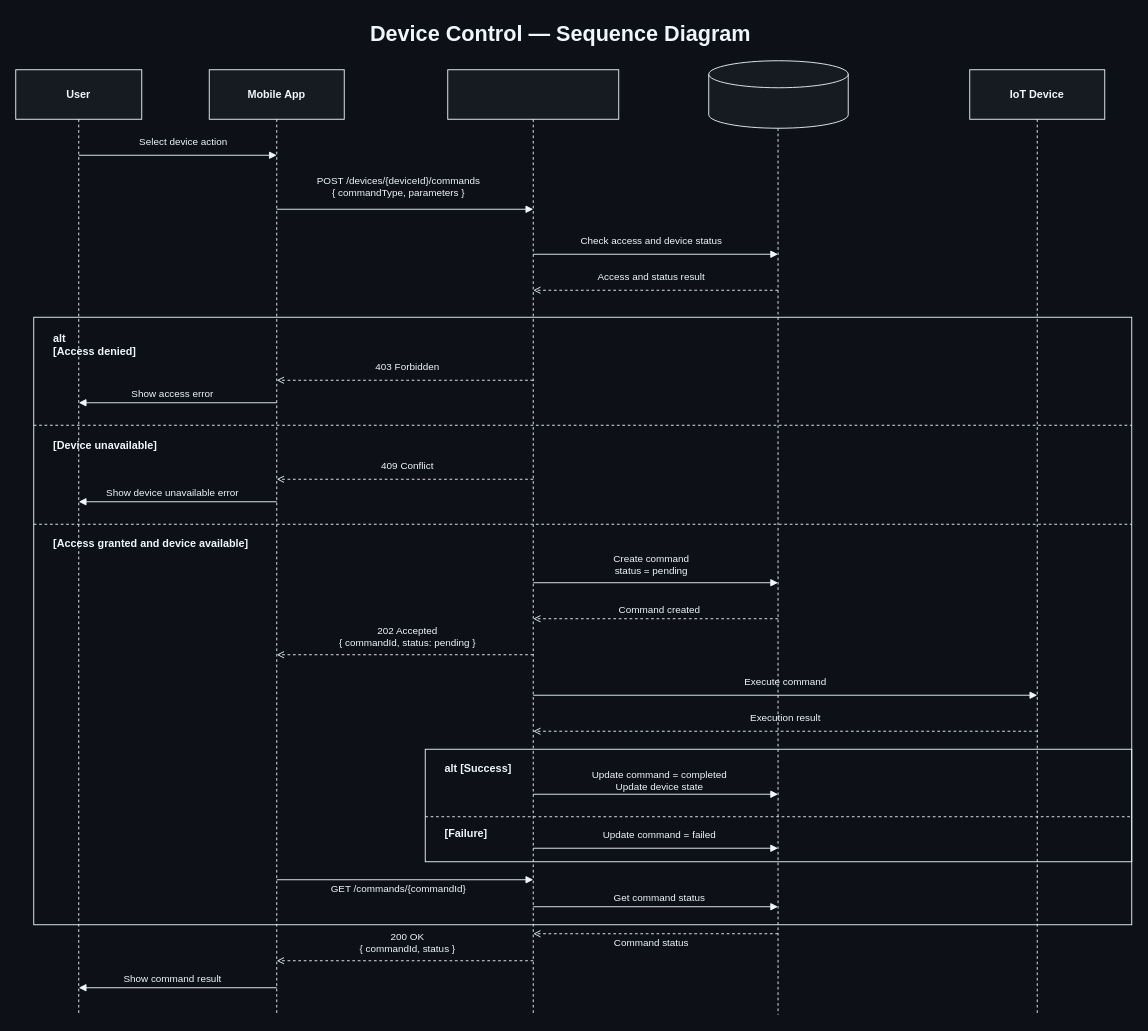
Some shapes in this 1148 by 1031 pixel diagram are drawn without their labels. The shapes that lost their labels are listed below. From the top down, each one's box as (x1, y1, x2, y2) in pixels, then its label:
(447, 69, 619, 119): Smart Home Backend
(708, 60, 848, 128): Database (PostgreSQL)
